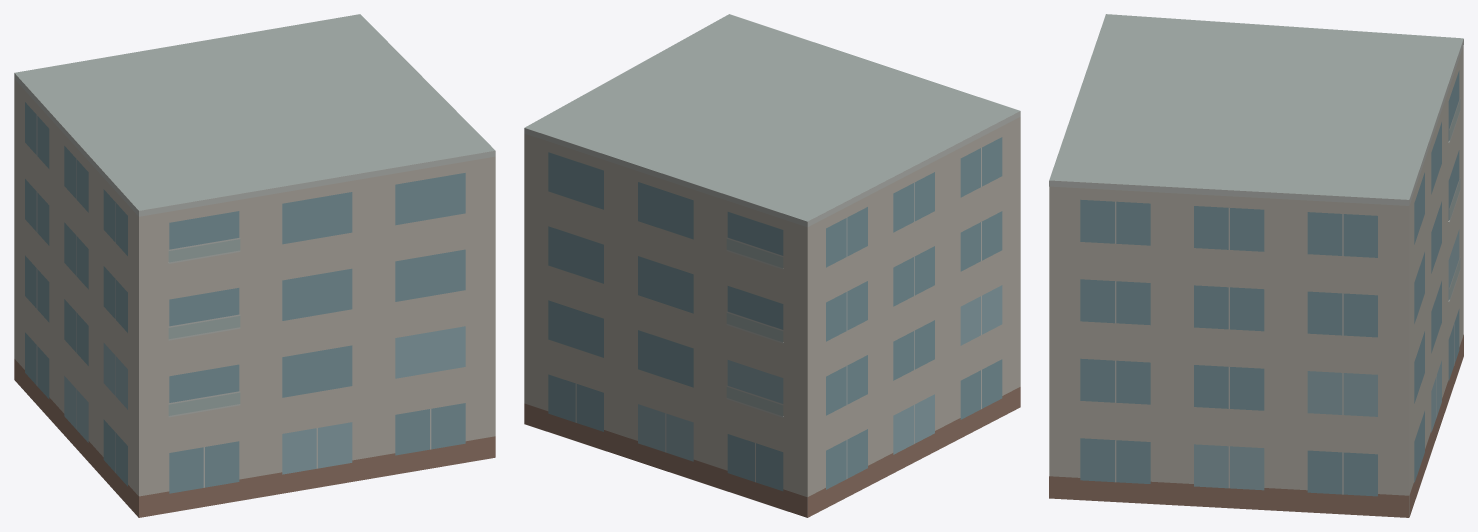
The model's file is survey-upis-32615808.glb.
The picture shows the model from 3 angles, left to right: view 1: azimuth 30°, elevation 25°; view 2: azimuth 150°, elevation 25°; view 3: azimuth 270°, elevation 25°; orthographic projection. The views are drawn at different scales.
Parts seen in each view (by area): view 1: survey-upis-32615808.tmp; view 2: survey-upis-32615808.tmp; view 3: survey-upis-32615808.tmp.
Boxes of the visible parts, x1,y1,x2,y2 form: survey-upis-32615808.tmp: [14, 14, 495, 517]; survey-upis-32615808.tmp: [524, 14, 1020, 517]; survey-upis-32615808.tmp: [1049, 14, 1463, 517].
Bounding box in the file's own units: 16 × 12.75 × 15.08.
